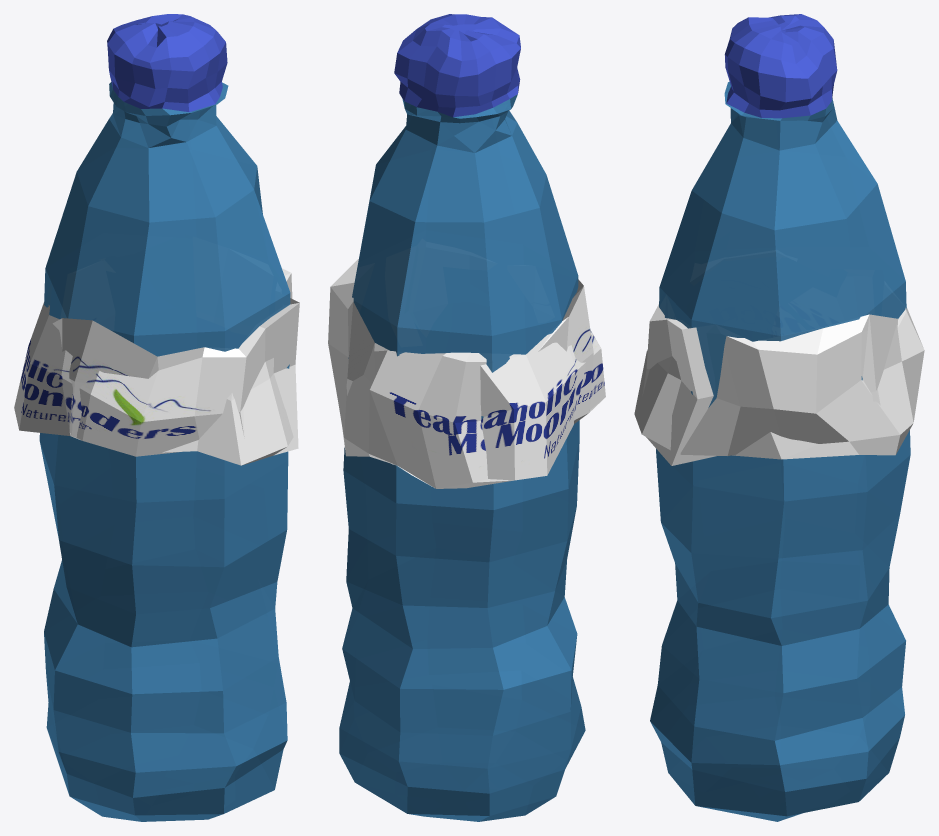
The model's file is WaterBottle(waste).fbx.
The picture shows the model from 3 angles, left to right: view 1: azimuth 30°, elevation 25°; view 2: azimuth 150°, elevation 25°; view 3: azimuth 270°, elevation 25°; orthographic projection.
Visible parts, largest first — view 1: WaterBottle(waste), Tag; view 2: WaterBottle(waste), Tag; view 3: WaterBottle(waste), Tag.
Boxes of the visible parts, x1=… form: WaterBottle(waste): x1=39, y1=14, x2=290, y2=821; Tag: x1=14, y1=268, x2=299, y2=465; WaterBottle(waste): x1=339, y1=14, x2=585, y2=821; Tag: x1=328, y1=259, x2=605, y2=488; WaterBottle(waste): x1=650, y1=14, x2=910, y2=821; Tag: x1=634, y1=304, x2=924, y2=465.
Size of the model in its own units: 90.09 by 279 by 94.61.
Materials: 3 (1 with a texture image).
